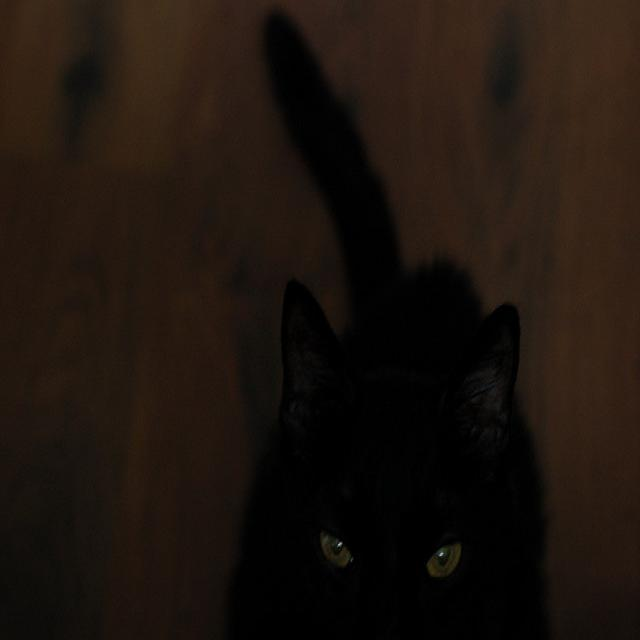Cat: (231, 7, 569, 640)
